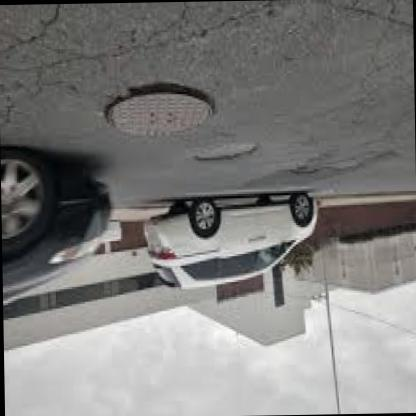manholes: (96, 69, 218, 148), (186, 134, 260, 165)
